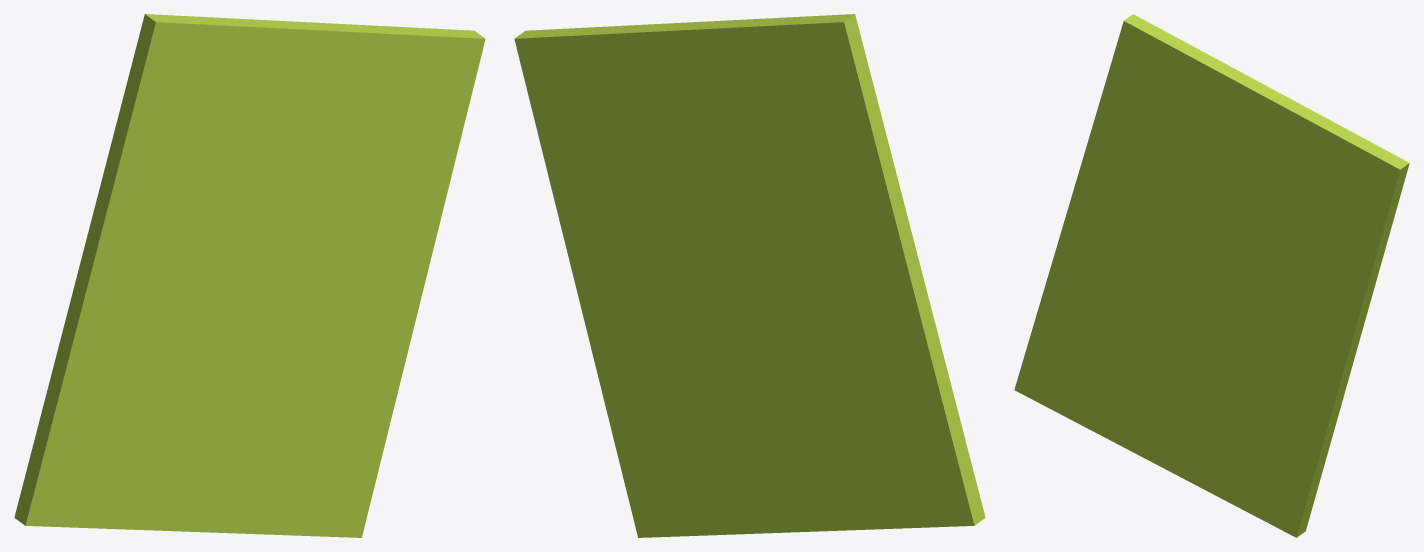
3 views of the same model, side by side, from view 1: azimuth 30°, elevation 25°; view 2: azimuth 150°, elevation 25°; view 3: azimuth 330°, elevation 25° (orthographic). The views are drawn at different scales.
Parts seen in each view (by area): view 1: osm-way27917482-F3; view 2: osm-way27917482-F3; view 3: osm-way27917482-F3.
Part boxes in pixels (<box>): osm-way27917482-F3: <box>14,14,485,537</box>; osm-way27917482-F3: <box>514,14,985,537</box>; osm-way27917482-F3: <box>1014,14,1409,537</box>.
Size of the model in its own units: 3.59 by 4.21 by 0.15.
